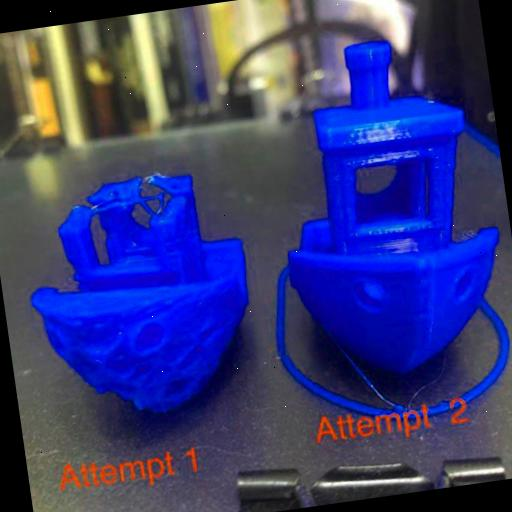spaghetti: (90, 185, 167, 225)
